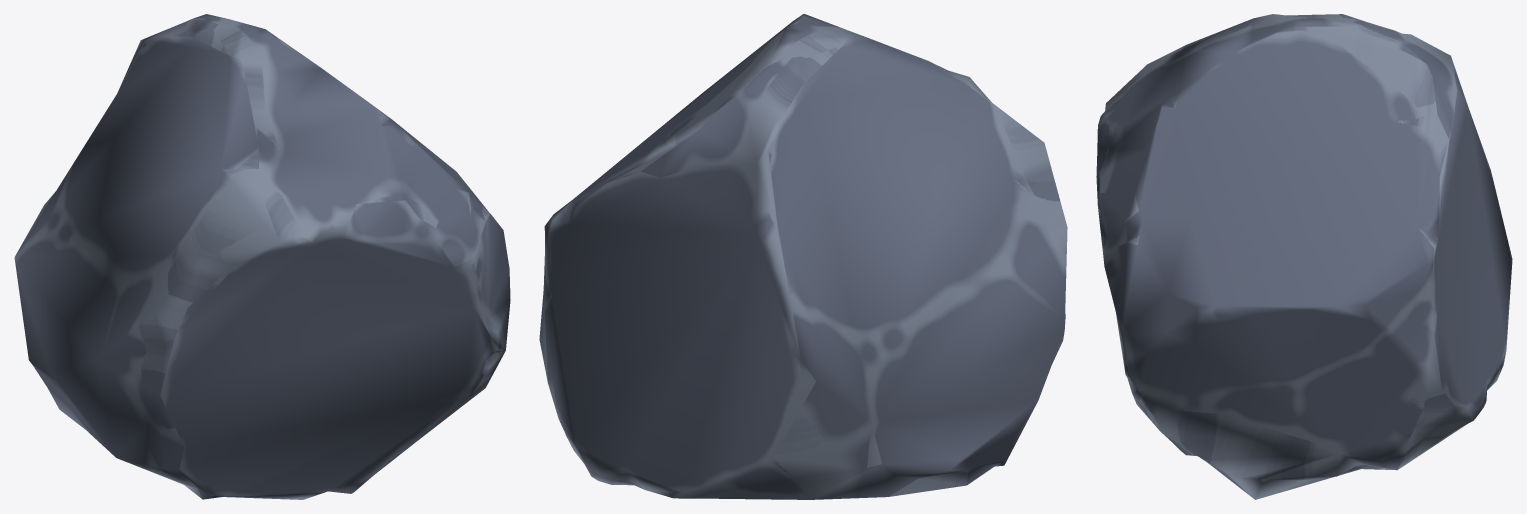
The model's file is Rocher_Cailloux_3.fbx.
3 renders of one model, left to right at view 1: azimuth 30°, elevation 25°; view 2: azimuth 150°, elevation 25°; view 3: azimuth 270°, elevation 25°, orthographic. The views are drawn at different scales.
Visible parts, largest first — view 1: Rocher_GrosCailloux_1; view 2: Rocher_GrosCailloux_1; view 3: Rocher_GrosCailloux_1.
Boxes of the visible parts, box(x1,y1,x2,y2) form: Rocher_GrosCailloux_1: box(14, 14, 510, 499); Rocher_GrosCailloux_1: box(539, 14, 1067, 499); Rocher_GrosCailloux_1: box(1096, 14, 1512, 499).
Bounding box in the file's own units: 292 × 296 × 268.
